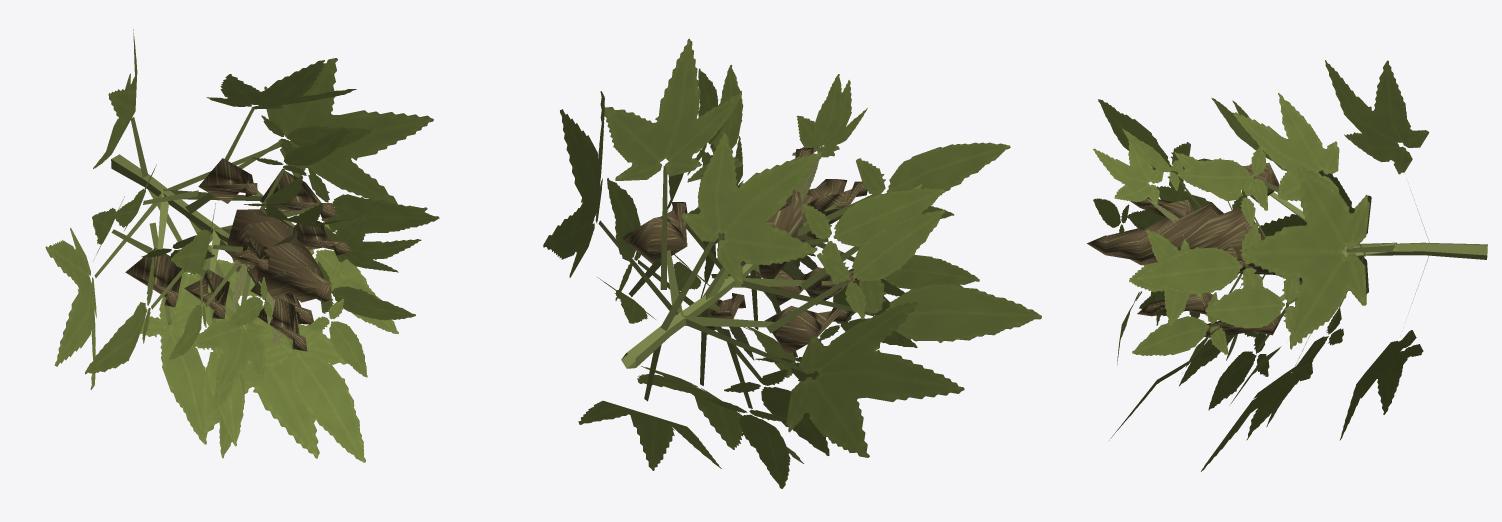
File: p_dark_auto_flowering_c1_cards.obj
3 views of the same model, side by side, from view 1: azimuth 30°, elevation 25°; view 2: azimuth 150°, elevation 25°; view 3: azimuth 270°, elevation 25° (orthographic). The views are drawn at different scales.
Size of the model in its own units: 1.2 by 1.12 by 0.943.
1 material, 1 textured.
